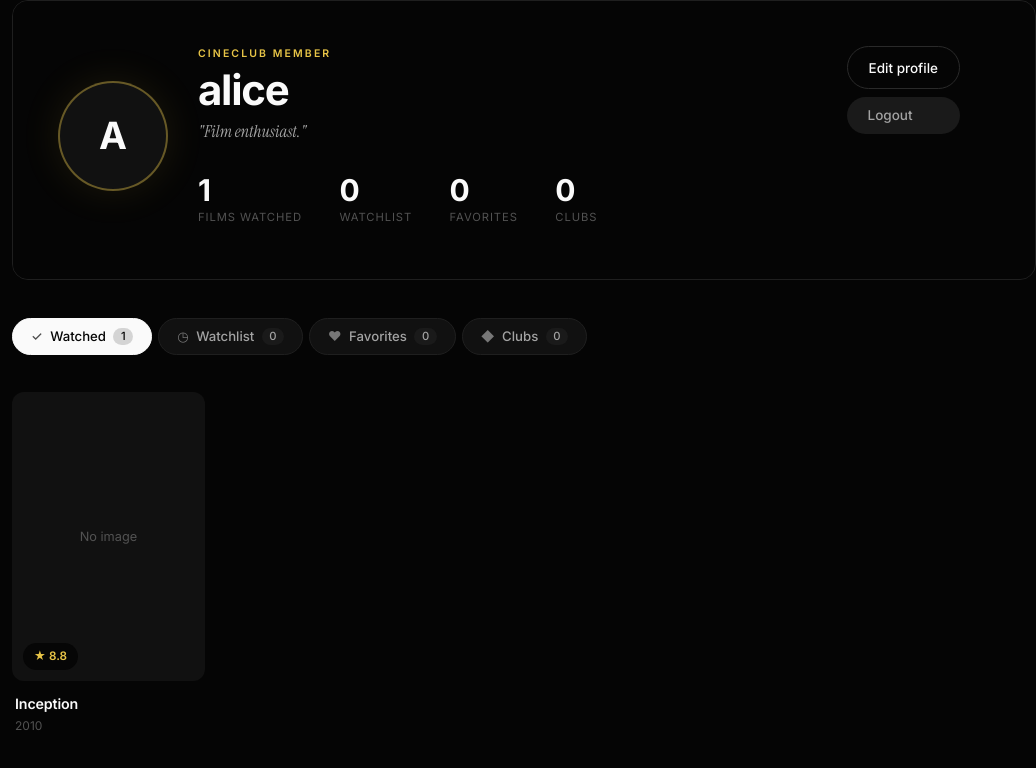
Test: switching to watchlist tab shows empty state message
Expected: the heading "alice" is shown, [198,64,289,115]
Click the button "◷ Watchlist 0". click: click(231, 336)
box: [158,318,303,354]
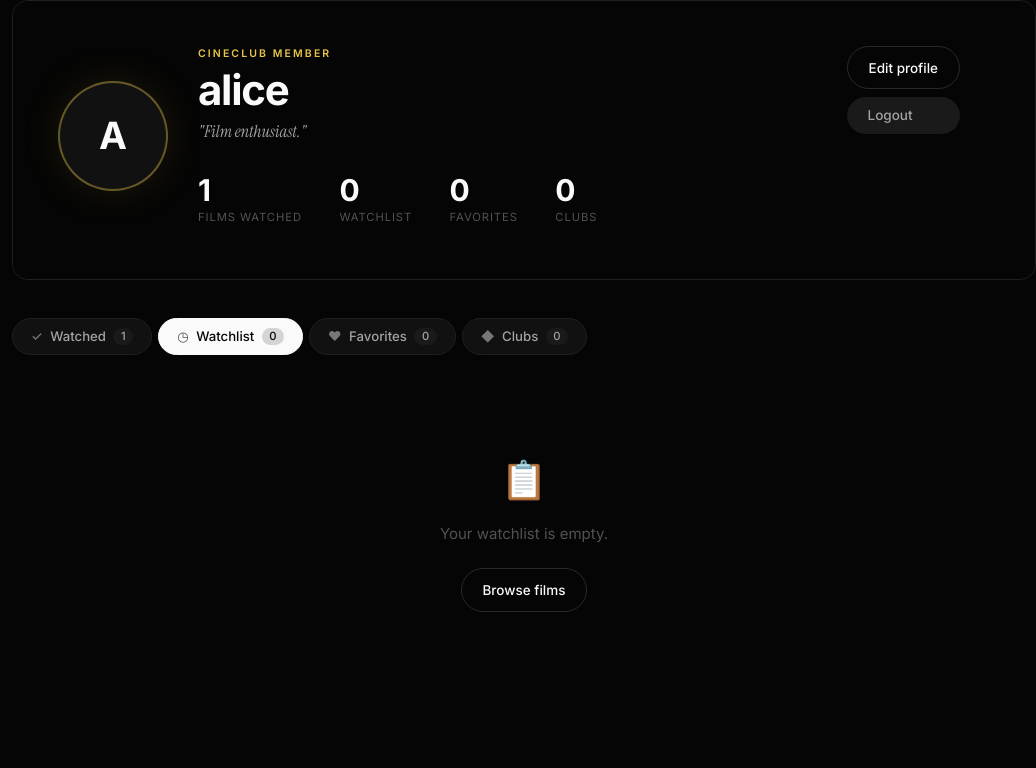
Result: the text "Your watchlist is empty." is shown at [440,524,608,543]
